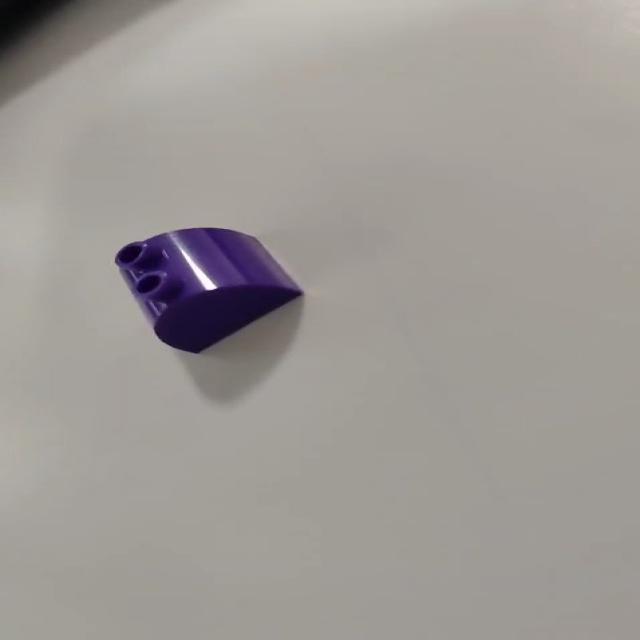H2x2x1: (116, 228, 306, 356)
